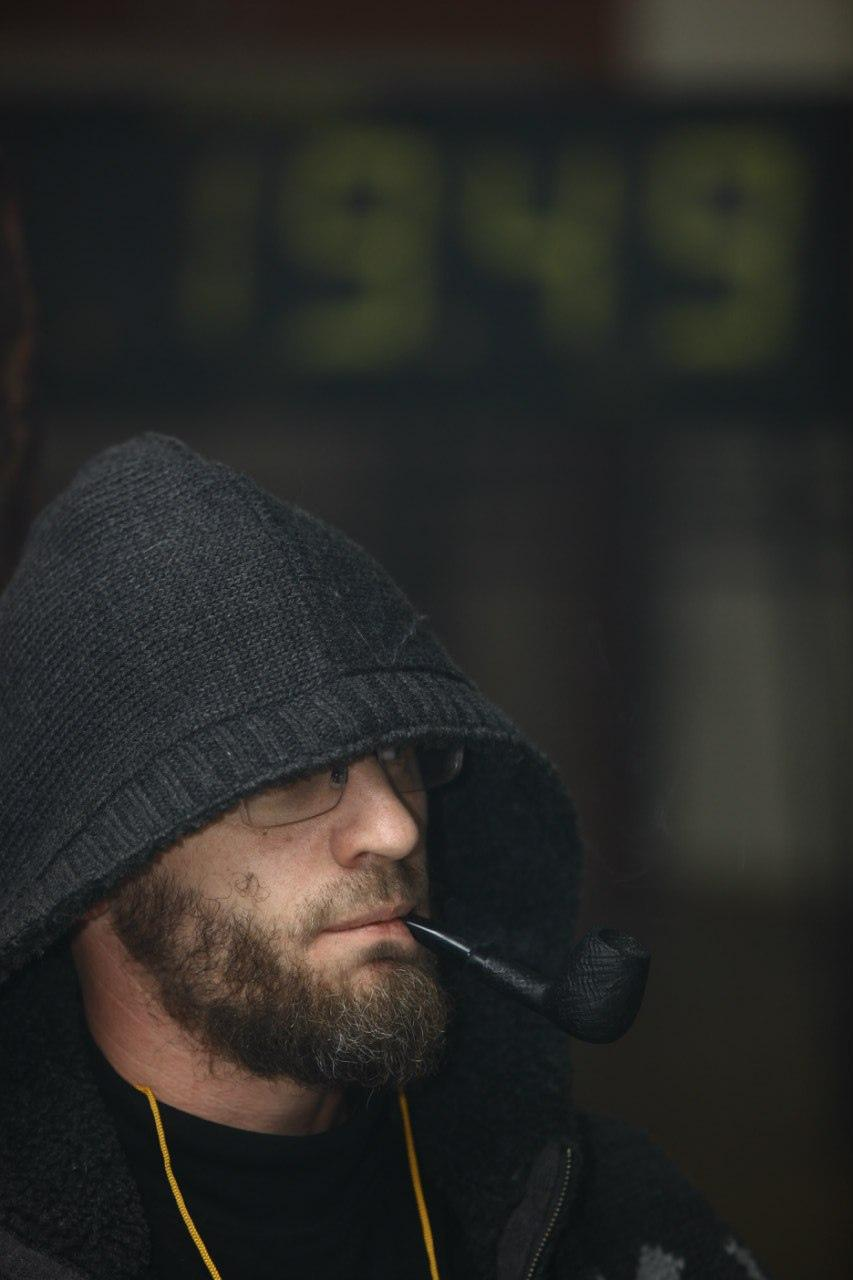trubka: (405, 912, 652, 1045)
